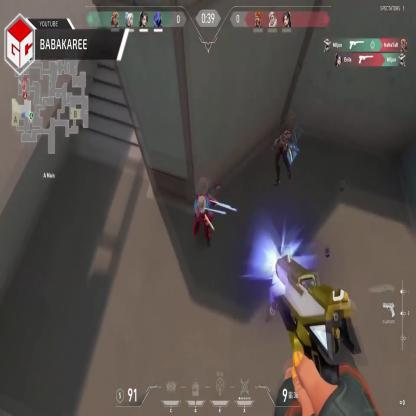enemy: (194, 193, 212, 246)
enemy_head: (196, 194, 206, 212)
